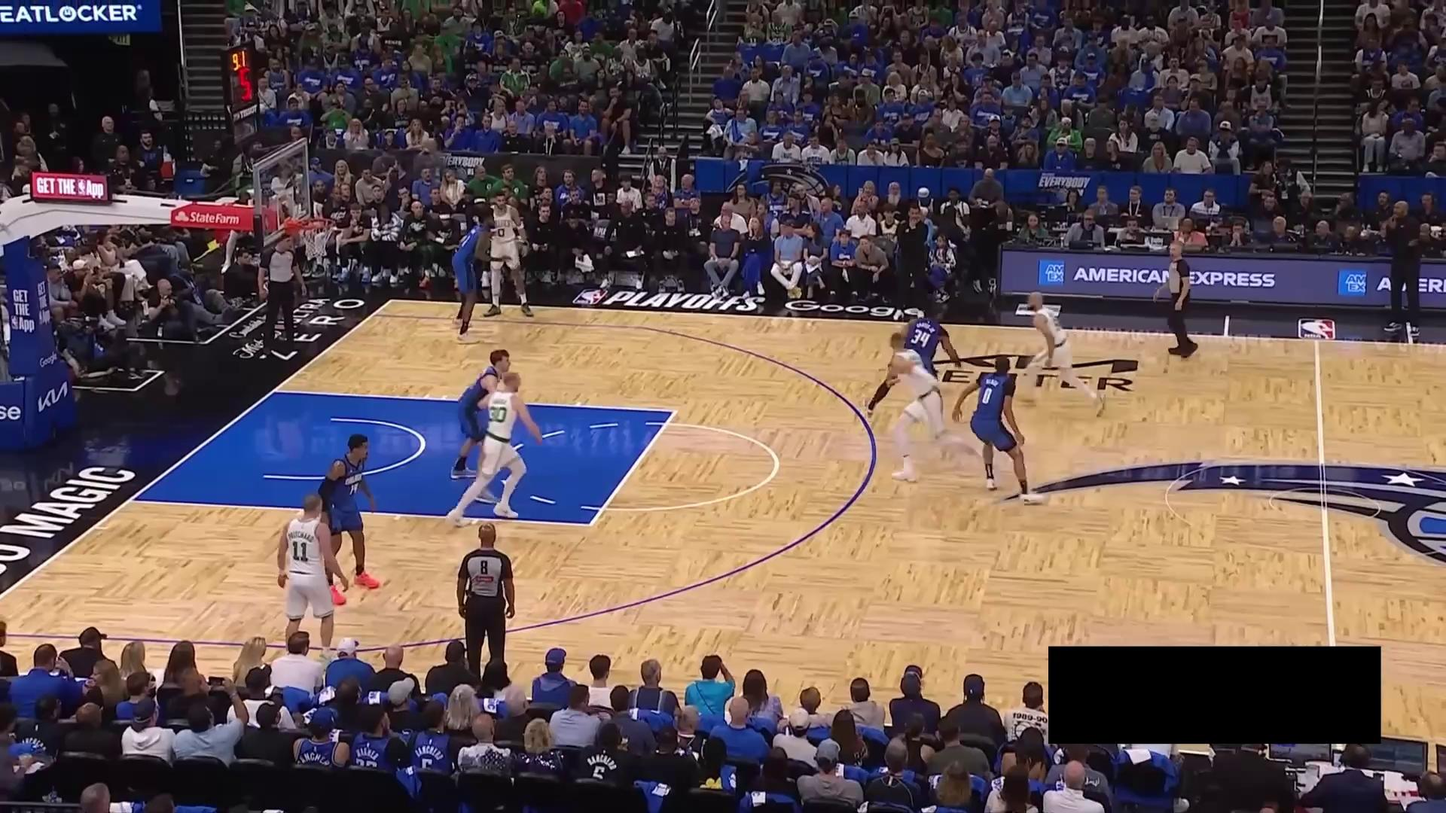number: (291, 539, 312, 564), (488, 405, 508, 424), (911, 328, 930, 348), (982, 387, 994, 405), (348, 482, 361, 496), (497, 228, 505, 238)
player: (886, 331, 991, 484), (447, 366, 546, 527), (952, 354, 1048, 505), (275, 491, 348, 658), (314, 429, 381, 608), (867, 305, 966, 421), (447, 350, 526, 480), (481, 187, 536, 317), (448, 204, 498, 343)
player-in-possession: (1022, 289, 1109, 419)
referee: (451, 521, 520, 681), (255, 231, 310, 364), (1149, 236, 1203, 356)
rim: (298, 216, 338, 232)
